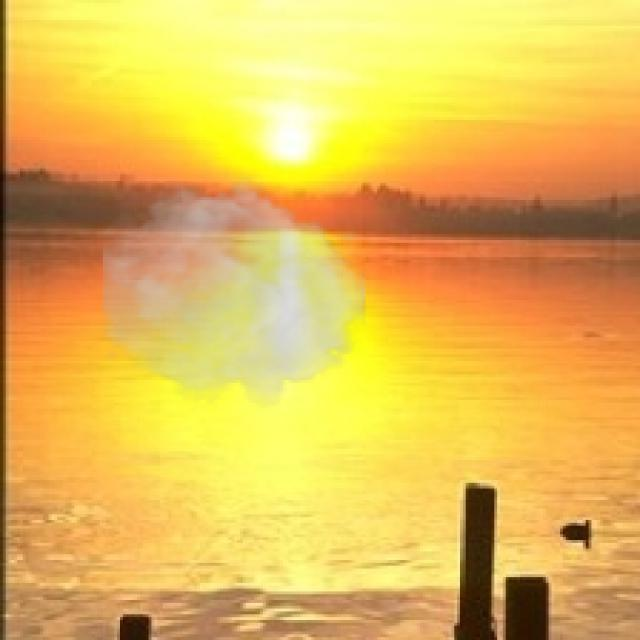Smoke: (103, 174, 366, 409)
